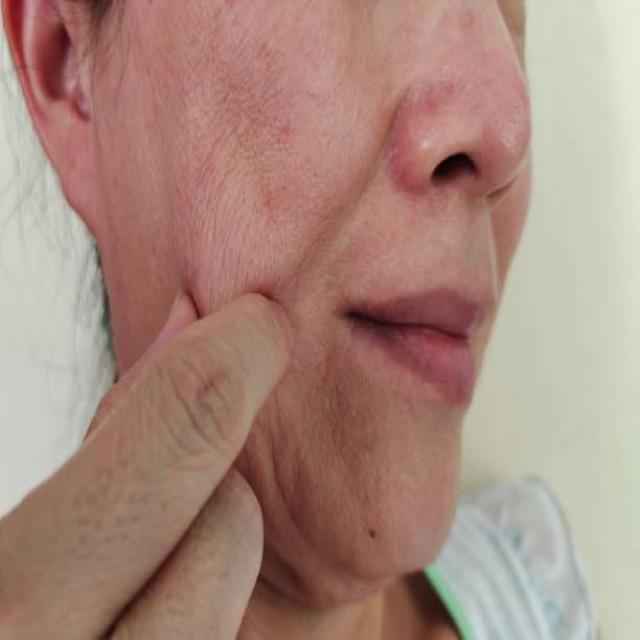dry: (164, 10, 348, 286)
